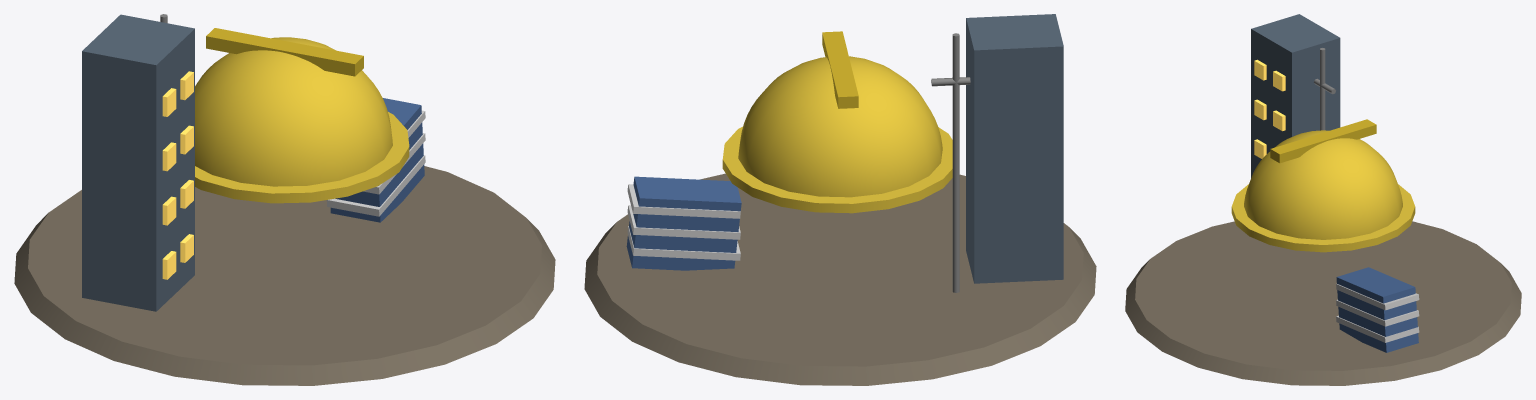
The model's file is hard_hat.glb.
The picture shows the model from 3 angles, left to right: view 1: azimuth 30°, elevation 25°; view 2: azimuth 150°, elevation 25°; view 3: azimuth 270°, elevation 25°; orthographic projection. The views are drawn at different scales.
Bounding box in the file's own units: 1.99 × 1.16 × 1.99.
